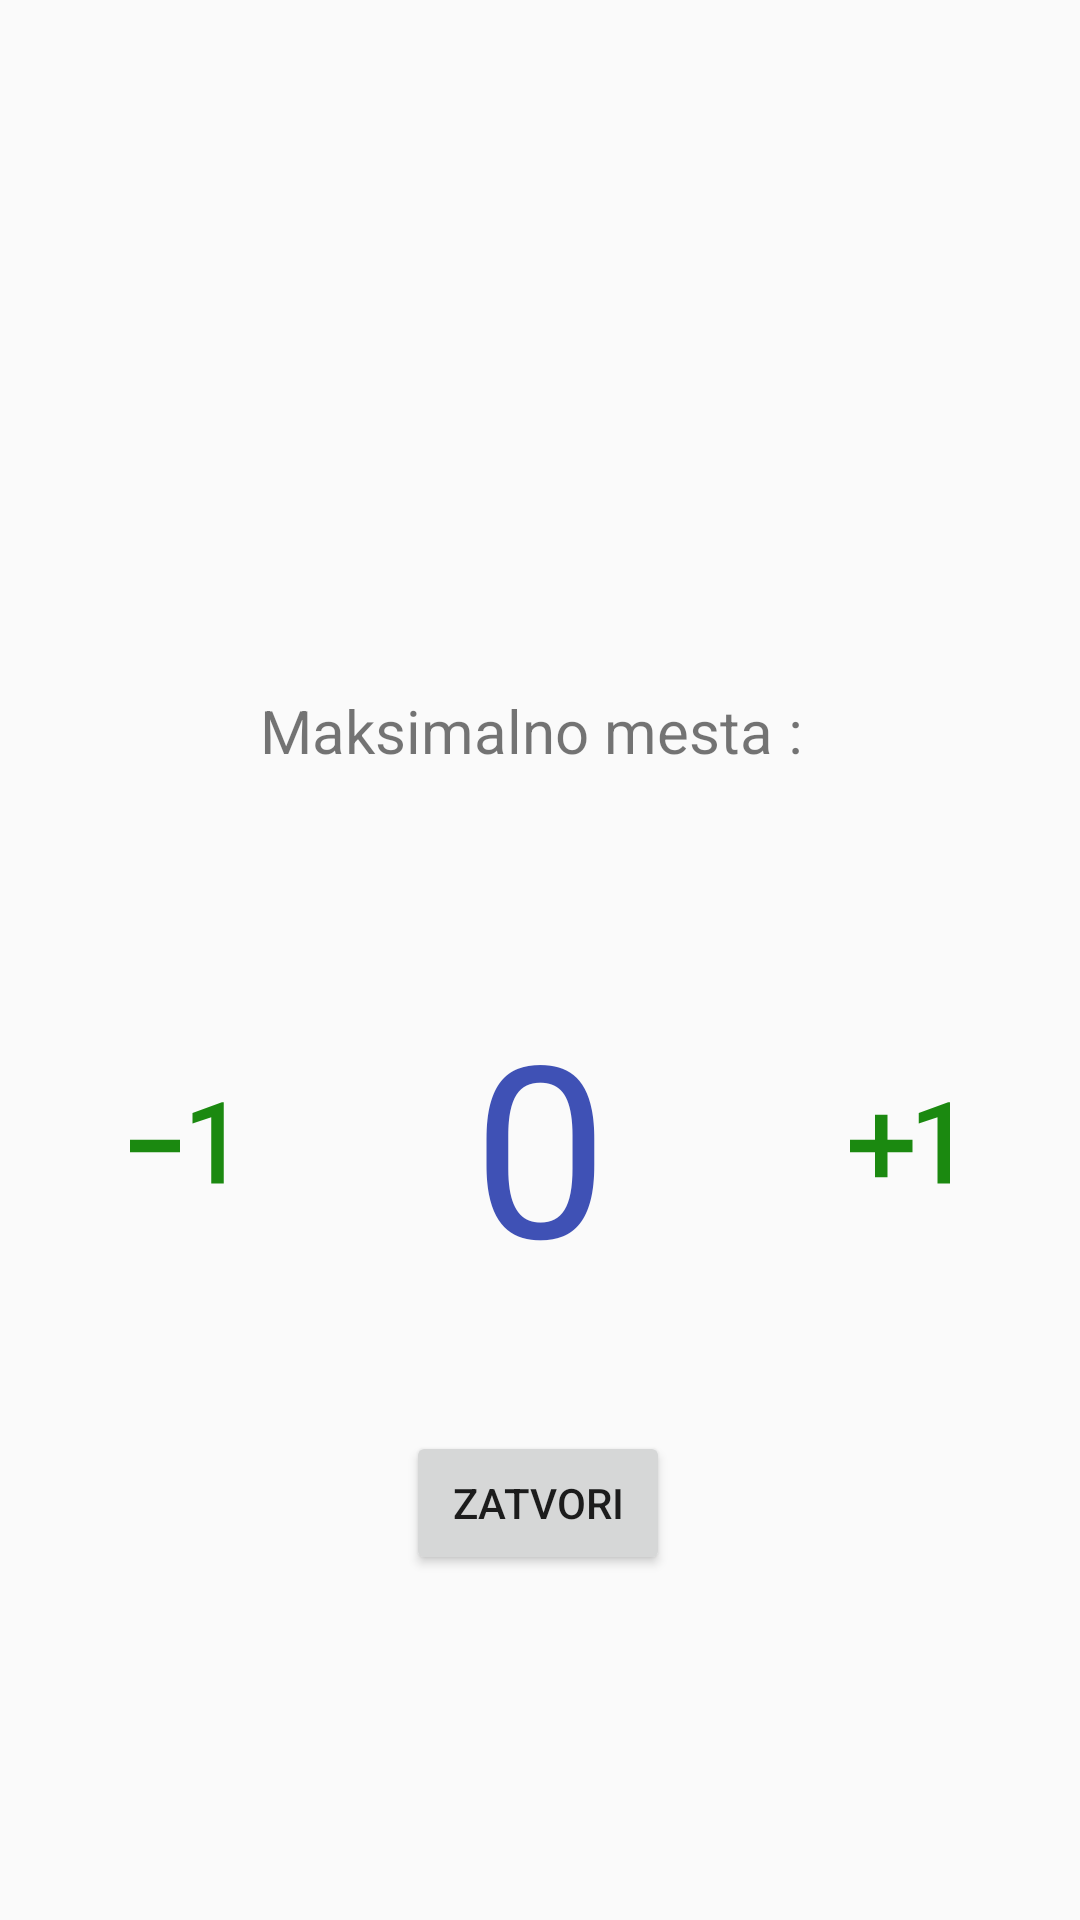

Icons on this 1080×1920 Android screen, each with its box as (x1=x1, y1=y1, x2=x2, y2=y2):
exposure neg: (x1=130, y1=1102, x2=224, y2=1184)
exposure plus: (x1=850, y1=1102, x2=950, y2=1184)
